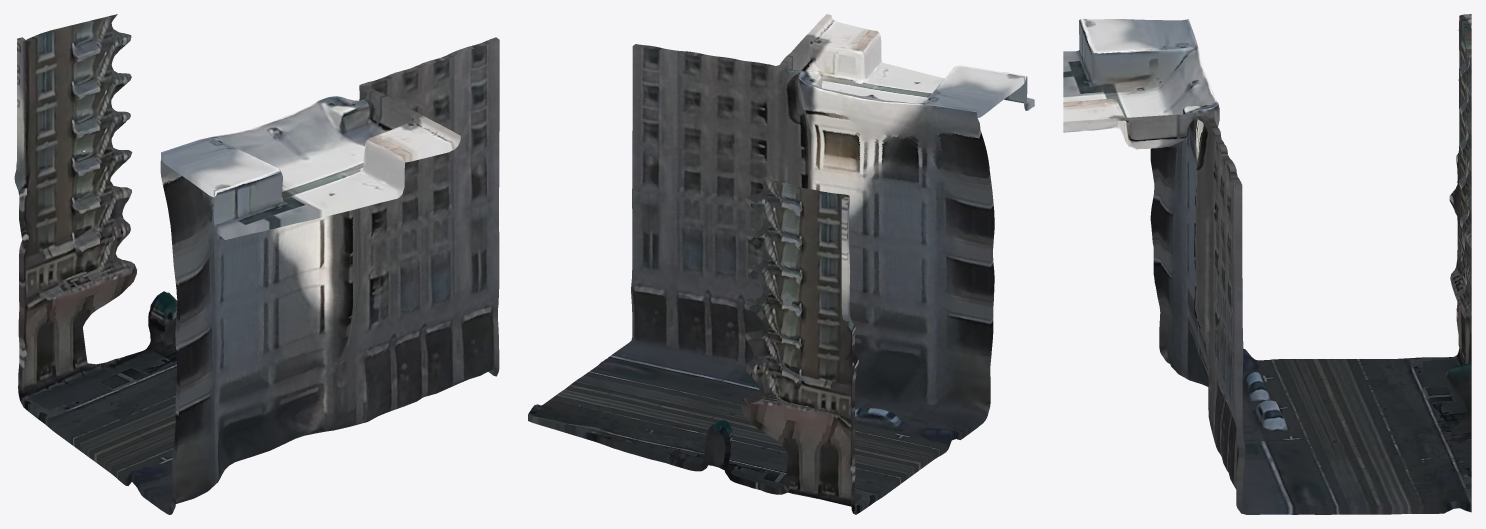
The model's file is z20-167747-405245-h0-yup-uvflip-v3-world.glb.
3 views of the same model, side by side, from view 1: azimuth 30°, elevation 25°; view 2: azimuth 150°, elevation 25°; view 3: azimuth 270°, elevation 25° (orthographic). The views are drawn at different scales.
Size of the model in its own units: 30.2 by 29.04 by 30.32.
Materials: 1 (1 with a texture image).
